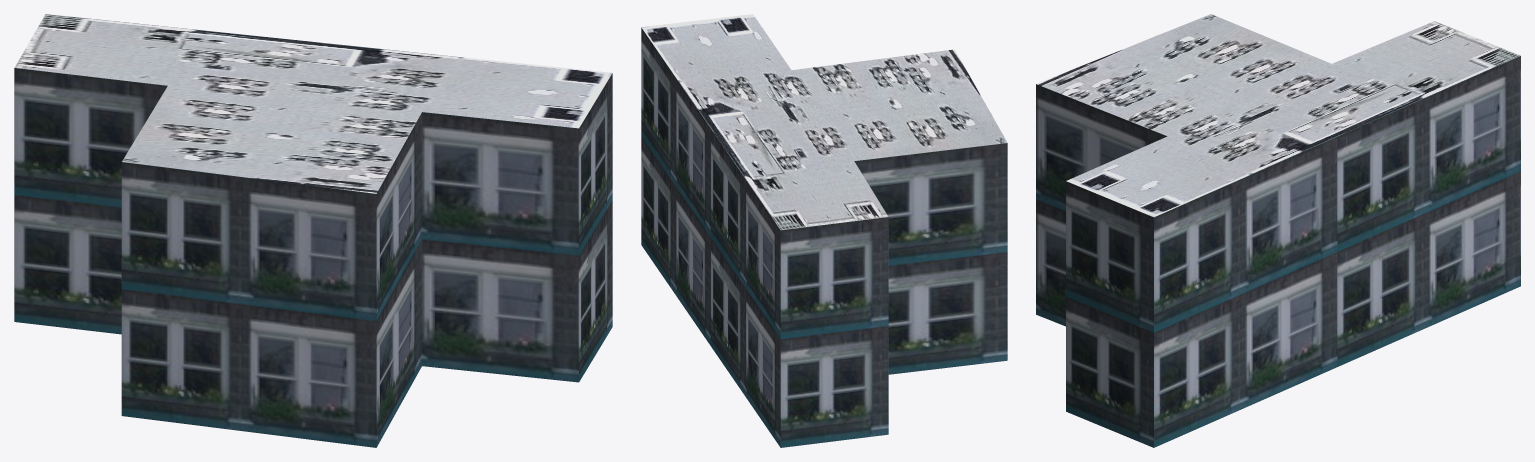
File: ResTex__2286.fbx
The picture shows the model from 3 angles, left to right: view 1: azimuth 30°, elevation 25°; view 2: azimuth 150°, elevation 25°; view 3: azimuth 270°, elevation 25°; orthographic projection. The views are drawn at different scales.
Parts seen in each view (by area): view 1: CityEngineMaterial_11_m, CityEngineMaterial_8_m; view 2: CityEngineMaterial_11_m, CityEngineMaterial_8_m; view 3: CityEngineMaterial_11_m, CityEngineMaterial_8_m.
Boxes of the visible parts, left/top/right/bottom form: CityEngineMaterial_11_m: left=14, top=68, right=612, bottom=447; CityEngineMaterial_8_m: left=14, top=14, right=612, bottom=193; CityEngineMaterial_11_m: left=641, top=28, right=1007, bottom=447; CityEngineMaterial_8_m: left=641, top=14, right=1007, bottom=230; CityEngineMaterial_11_m: left=1036, top=56, right=1520, bottom=447; CityEngineMaterial_8_m: left=1036, top=14, right=1520, bottom=217.
Size of the model in its own units: 11.35 by 6 by 11.43.
Materials: 2 (2 with a texture image).
